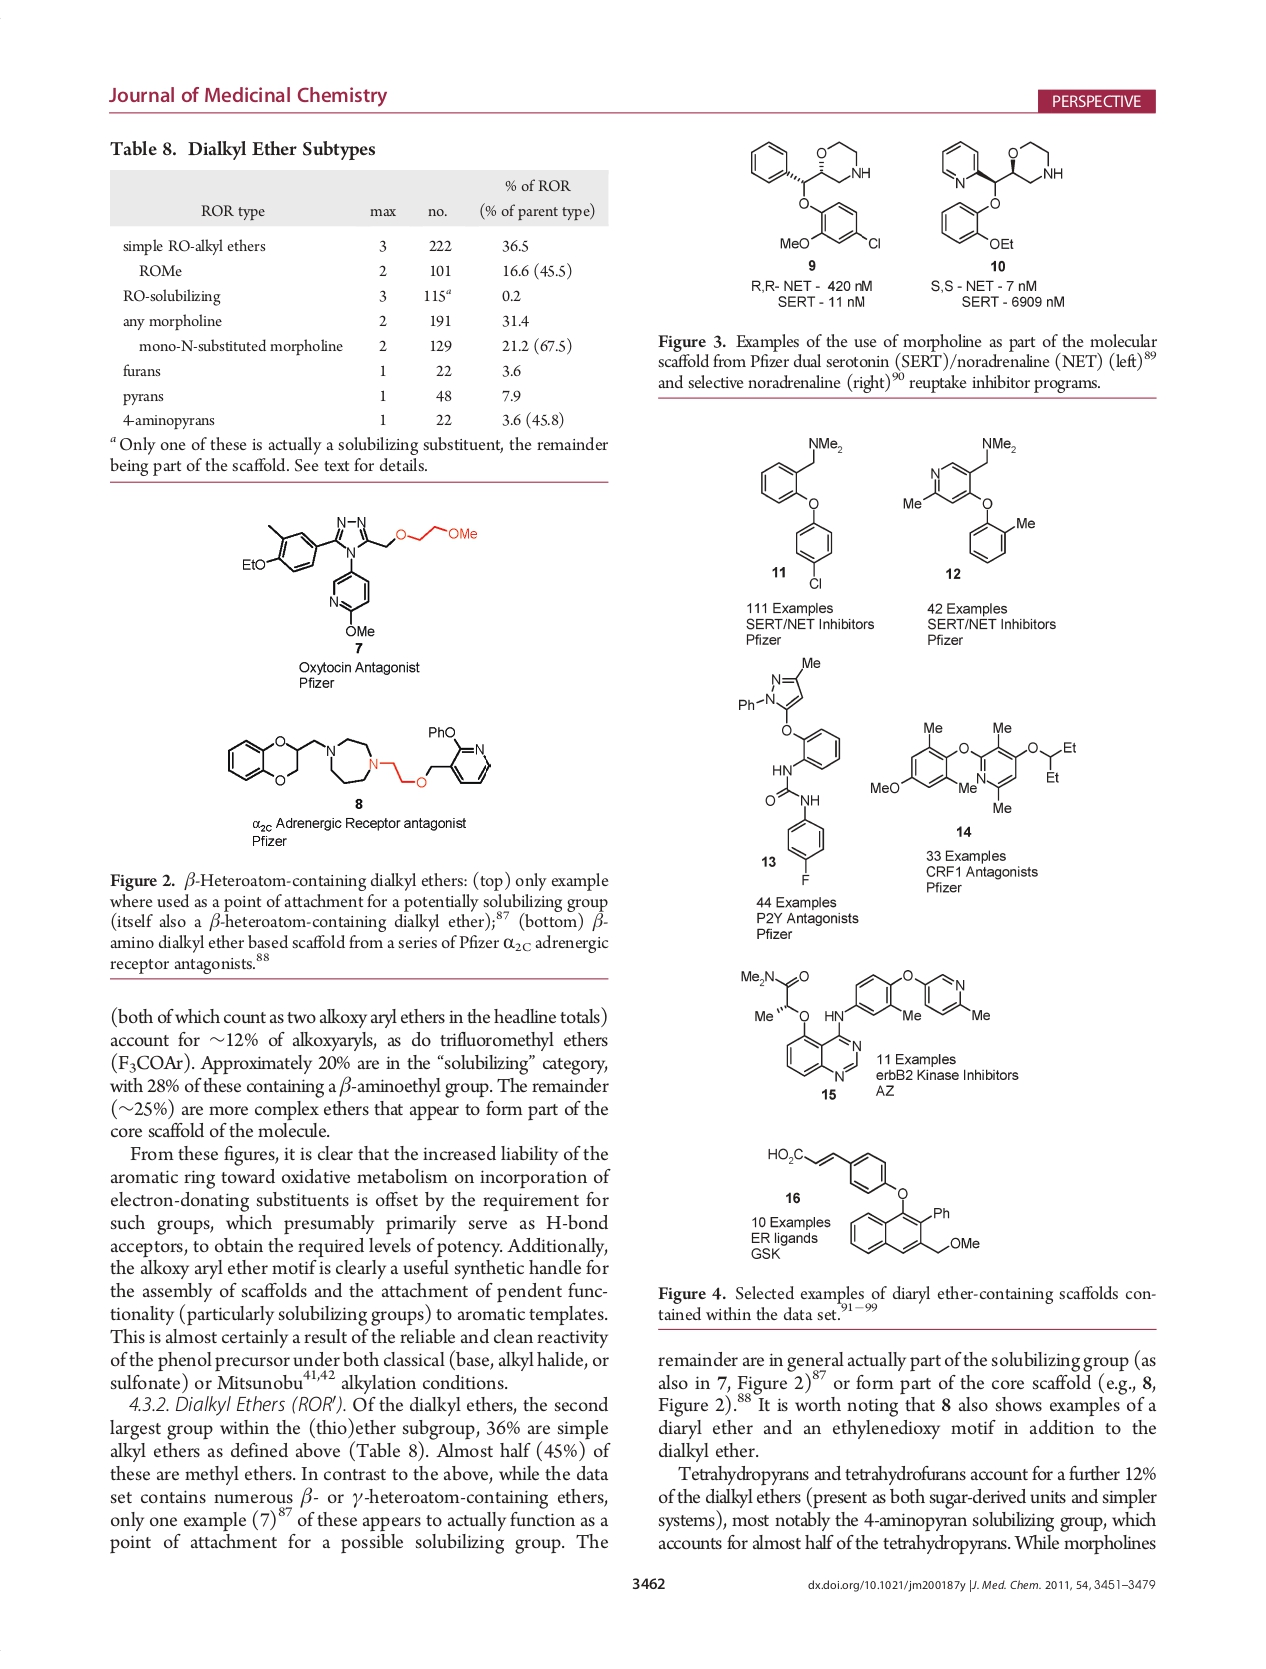exist_molecular: (735, 964, 992, 1084), (235, 513, 479, 638), (765, 1140, 985, 1258), (735, 652, 842, 887), (222, 721, 493, 795), (868, 718, 1076, 814), (898, 428, 1039, 564), (935, 136, 1065, 255), (749, 137, 883, 251), (755, 431, 844, 592)
